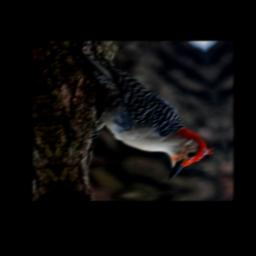Woodpecker: (71, 42, 219, 185)
